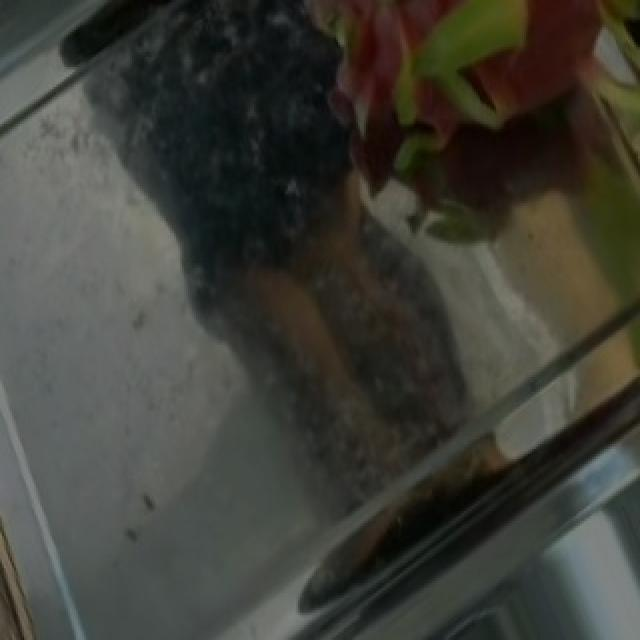fruit: (240, 0, 638, 310)
